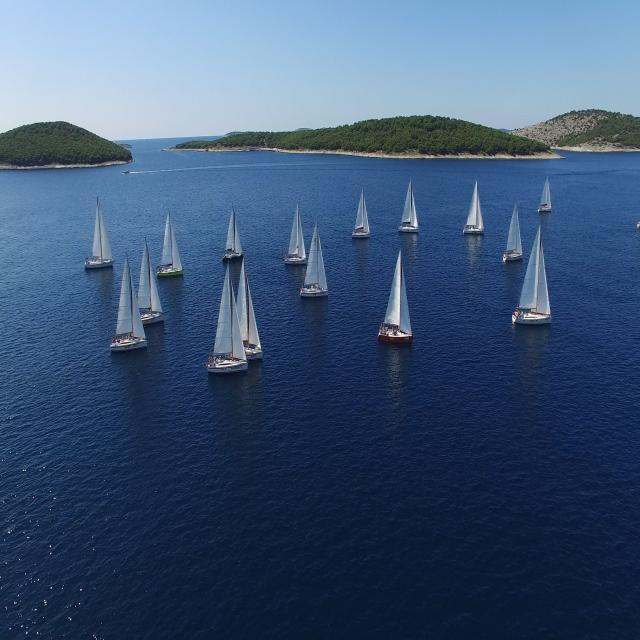ship: (376, 256, 421, 350), (513, 238, 553, 334), (210, 285, 246, 376), (111, 267, 145, 354), (230, 278, 266, 360), (88, 190, 115, 275), (154, 220, 188, 284), (302, 234, 331, 306), (136, 239, 160, 325), (219, 212, 249, 267), (284, 208, 308, 268), (463, 187, 489, 241), (398, 178, 421, 238), (504, 208, 526, 269), (350, 194, 371, 242), (538, 172, 554, 215)
